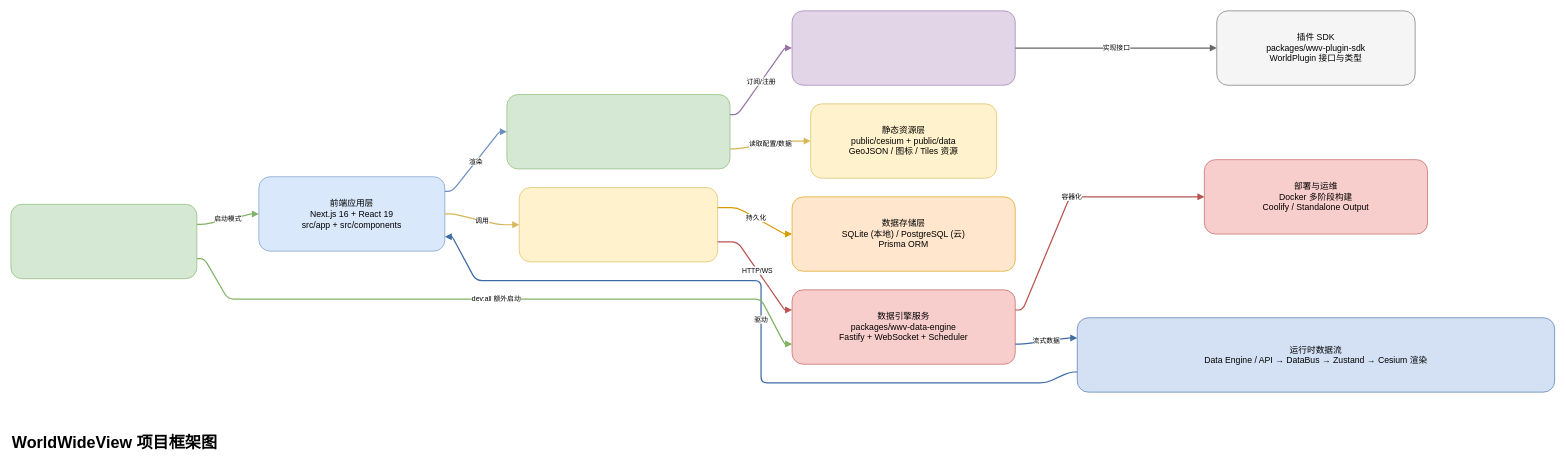
Some shapes in this 1566 by 465 pixel diagram are drawn without their labels. The centre of each missing label's shape, as x and y in pixels:
应用 API 层 src/app/api + src/lib auth / proxy / data routes: the point at 618,224
开发入口 pnpm dev: 主应用 pnpm dev:all: 主应用 + 数据引擎: the point at 103,241
插件工作区 (Monorepo) packages/wwv-plugin-* Aviation / Maritime / Wildfire / ...: the point at 903,47
核心引擎层 src/core Globe + DataBus + PluginManager + Zustand: the point at 618,131
